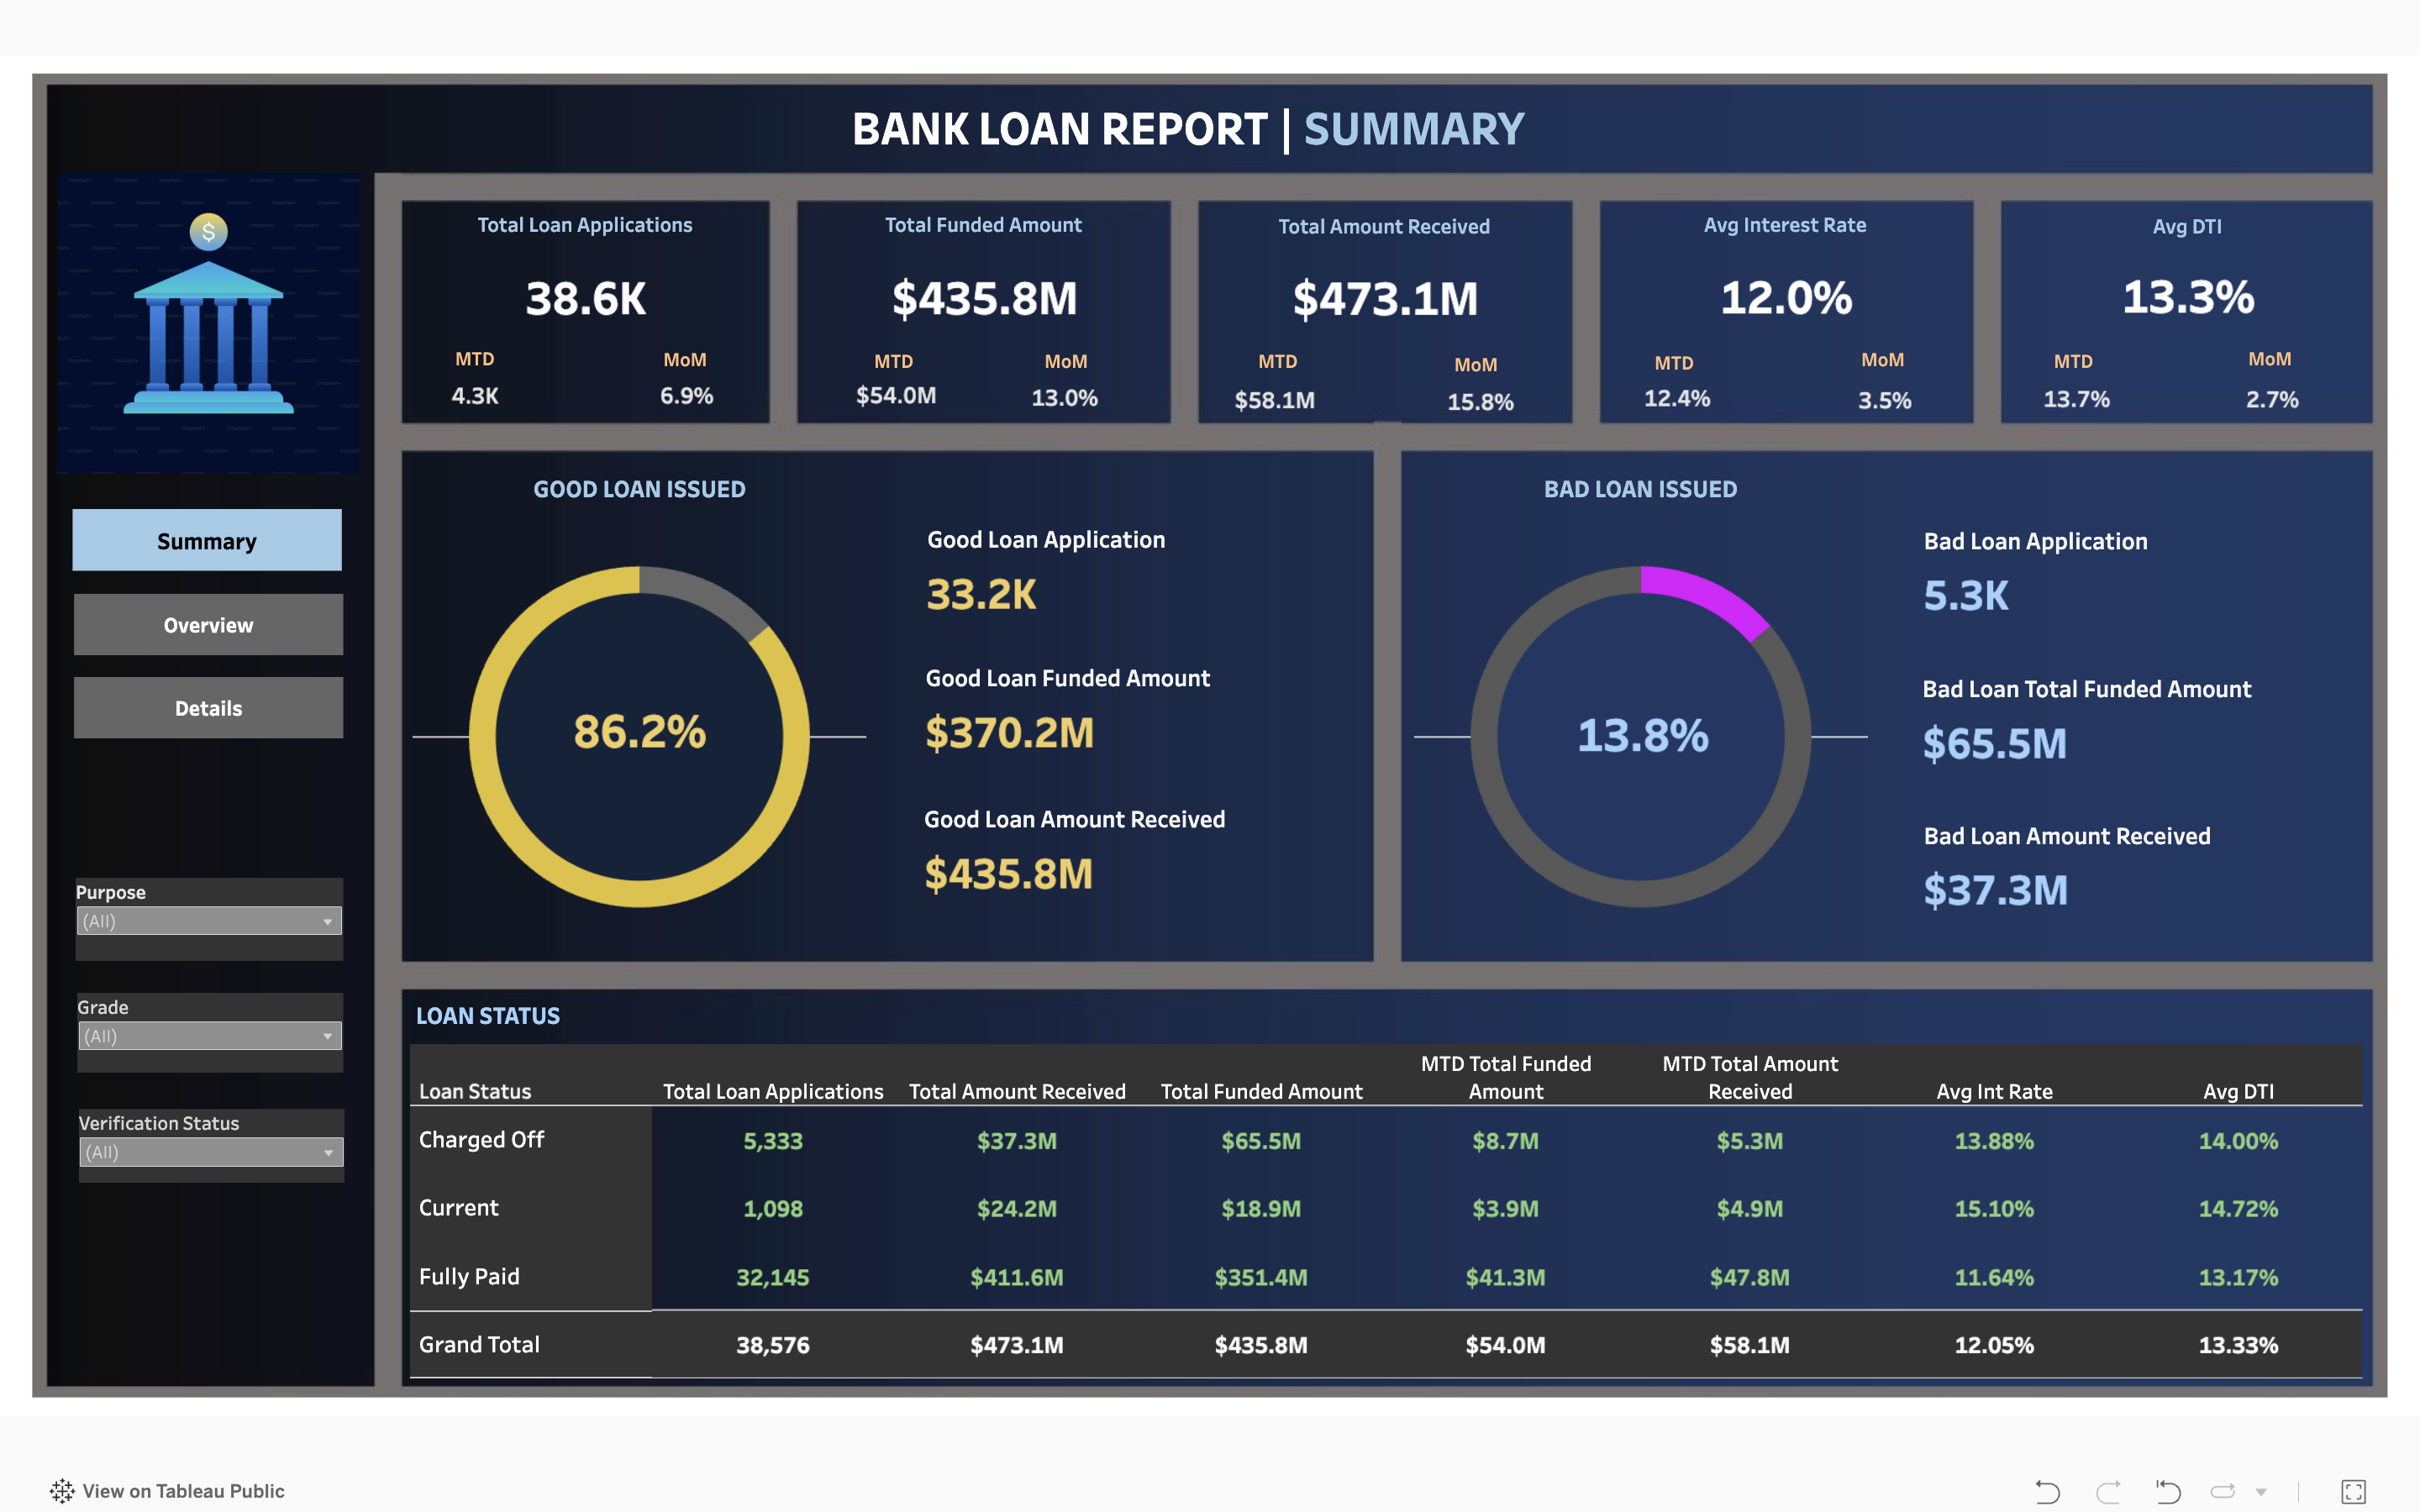

Layout of this report page (visuals, bound fields, positions):
{"tool":"tableau","page":{"name":"SUMMARY","canvas":[1600,900],"ordinal":2},"visuals":[{"type":"image","param":"Image/Tableau Background 1.jpg","box":[8,8,1584,884]},{"type":"text","box":[563,22,455,51]},{"type":"image","param":"Image/premium_vector-1717511155261-8af531b8270c.jpeg","box":[28,78,220,199]},{"type":"worksheet","title":"Total Loan Applications","mark":"Automatic","box":[266,96,242,92]},{"type":"worksheet","title":"Total Funded Amount","mark":"Automatic","box":[527,96,247,92]},{"type":"worksheet","title":"Avg Interest Rate","mark":"Automatic","box":[1057,96,247,91]},{"type":"worksheet","title":"Total Amount Received","mark":"Automatic","box":[792,97,247,91]},{"type":"worksheet","title":"Avg DTI","mark":"Automatic","box":[1323,97,247,89]},{"type":"text","box":[272,180,84,40]},{"type":"text","box":[1459,180,84,40]},{"type":"text","box":[411,181,84,40]},{"type":"text","box":[1203,181,84,40]},{"type":"text","box":[549,182,84,40]},{"type":"text","box":[663,182,84,40]},{"type":"text","box":[803,182,84,40]},{"type":"text","box":[1329,182,84,40]},{"type":"text","box":[1065,183,84,40]},{"type":"text","box":[934,184,84,40]},{"type":"worksheet","title":"MTD Total Loan Applications","mark":"Automatic","box":[260,199,110,49]},{"type":"worksheet","title":"MTD Total Funded Amount","mark":"Automatic","box":[558,204,71,39]},{"type":"worksheet","title":"MoM Avg Int Rate","mark":"Automatic","box":[1213,204,68,45]},{"type":"worksheet","title":"MTD Avg DTI","mark":"Automatic","box":[1341,204,65,44]},{"type":"worksheet","title":"MoM Total Funded Amount","mark":"Automatic","box":[665,205,79,40]},{"type":"worksheet","title":"MTD Total Amount Received","mark":"Automatic","box":[810,207,67,40]},{"type":"worksheet","title":"MoM Avg DTI","mark":"Automatic","box":[1472,207,62,39]},{"type":"worksheet","title":"MTD Avg Int Rate","mark":"Automatic","box":[1076,208,67,35]},{"type":"worksheet","title":"MoM Loan Applications","mark":"Automatic","box":[424,209,61,30]},{"type":"worksheet","title":"MoM Total Amount Received","mark":"Automatic","box":[940,212,79,32]},{"type":"worksheet","title":"Good Loan Issued","mark":"Pie","rows":["Calculation_0920692553846806","Calculation_0920692553846806"],"box":[273,270,300,325]},{"type":"worksheet","title":"Bad Loan Issued","mark":"Pie","rows":["Calculation_0920692553846806","Calculation_0920692553846806"],"box":[935,270,300,325]},{"type":"worksheet","title":"Good Loan Application","mark":"Automatic","box":[605,299,300,75]},{"type":"dashboard-object","box":[48,300,178,41]},{"type":"worksheet","title":"Bad Loan Application","mark":"Automatic","box":[1264,300,300,75]},{"type":"dashboard-object","box":[49,356,178,41]},{"type":"worksheet","title":"Good Loan Funded Amount","mark":"Automatic","box":[604,391,300,75]},{"type":"worksheet","title":"Bad Loan Total Funded Amount","mark":"Automatic","box":[1263,398,300,75]},{"type":"dashboard-object","box":[49,411,178,41]},{"type":"worksheet","title":"Bad Loan %","mark":"Automatic","box":[1034,413,104,70]},{"type":"worksheet","title":"Good Loan Application %","mark":"Automatic","box":[375,420,95,51]},{"type":"worksheet","title":"Good Loan Amount Received","mark":"Automatic","box":[603,484,300,75]},{"type":"worksheet","title":"Bad Loan Amount Received","mark":"Automatic","box":[1264,495,300,75]},{"type":"filter","title":"Good Loan Issued","param":"[federated.071fudh0e96j4d1cuqdf618amsxq].[none:purpose:nk]","box":[50,544,177,55]},{"type":"worksheet","title":"LOAN STATUS","mark":"Automatic","rows":["loan_status"],"box":[271,618,1291,258]},{"type":"filter","title":"Good Loan Issued","param":"[federated.071fudh0e96j4d1cuqdf618amsxq].[none:grade:nk]","box":[51,620,176,53]},{"type":"filter","title":"Good Loan Issued","param":"[federated.071fudh0e96j4d1cuqdf618amsxq].[none:verification_status:nk]","box":[52,697,176,49]}]}

Visuals, with their boxes on the page's 1600x900 design canvas (x1, y1, x2, y2). These are canvas units, not pixel positions in the 2420x1512 screenshot, which may show the page scaled, cropped or inside an application window:
image: {"left": 8, "top": 8, "right": 1592, "bottom": 892}
text: {"left": 563, "top": 22, "right": 1018, "bottom": 73}
image: {"left": 28, "top": 78, "right": 248, "bottom": 277}
"Total Loan Applications" worksheet: {"left": 266, "top": 96, "right": 508, "bottom": 188}
"Total Funded Amount" worksheet: {"left": 527, "top": 96, "right": 774, "bottom": 188}
"Avg Interest Rate" worksheet: {"left": 1057, "top": 96, "right": 1304, "bottom": 187}
"Total Amount Received" worksheet: {"left": 792, "top": 97, "right": 1039, "bottom": 188}
"Avg DTI" worksheet: {"left": 1323, "top": 97, "right": 1570, "bottom": 186}
text: {"left": 272, "top": 180, "right": 356, "bottom": 220}
text: {"left": 1459, "top": 180, "right": 1543, "bottom": 220}
text: {"left": 411, "top": 181, "right": 495, "bottom": 221}
text: {"left": 1203, "top": 181, "right": 1287, "bottom": 221}
text: {"left": 549, "top": 182, "right": 633, "bottom": 222}
text: {"left": 663, "top": 182, "right": 747, "bottom": 222}
text: {"left": 803, "top": 182, "right": 887, "bottom": 222}
text: {"left": 1329, "top": 182, "right": 1413, "bottom": 222}
text: {"left": 1065, "top": 183, "right": 1149, "bottom": 223}
text: {"left": 934, "top": 184, "right": 1018, "bottom": 224}
"MTD Total Loan Applications" worksheet: {"left": 260, "top": 199, "right": 370, "bottom": 248}
"MTD Total Funded Amount" worksheet: {"left": 558, "top": 204, "right": 629, "bottom": 243}
"MoM Avg Int Rate" worksheet: {"left": 1213, "top": 204, "right": 1281, "bottom": 249}
"MTD Avg DTI" worksheet: {"left": 1341, "top": 204, "right": 1406, "bottom": 248}
"MoM Total Funded Amount" worksheet: {"left": 665, "top": 205, "right": 744, "bottom": 245}
"MTD Total Amount Received" worksheet: {"left": 810, "top": 207, "right": 877, "bottom": 247}
"MoM Avg DTI" worksheet: {"left": 1472, "top": 207, "right": 1534, "bottom": 246}
"MTD Avg Int Rate" worksheet: {"left": 1076, "top": 208, "right": 1143, "bottom": 243}
"MoM Loan Applications" worksheet: {"left": 424, "top": 209, "right": 485, "bottom": 239}
"MoM Total Amount Received" worksheet: {"left": 940, "top": 212, "right": 1019, "bottom": 244}
"Good Loan Issued" worksheet (Pie marks): {"left": 273, "top": 270, "right": 573, "bottom": 595}
"Bad Loan Issued" worksheet (Pie marks): {"left": 935, "top": 270, "right": 1235, "bottom": 595}
"Good Loan Application" worksheet: {"left": 605, "top": 299, "right": 905, "bottom": 374}
dashboard-object: {"left": 48, "top": 300, "right": 226, "bottom": 341}
"Bad Loan Application" worksheet: {"left": 1264, "top": 300, "right": 1564, "bottom": 375}
dashboard-object: {"left": 49, "top": 356, "right": 227, "bottom": 397}
"Good Loan Funded Amount" worksheet: {"left": 604, "top": 391, "right": 904, "bottom": 466}
"Bad Loan Total Funded Amount" worksheet: {"left": 1263, "top": 398, "right": 1563, "bottom": 473}
dashboard-object: {"left": 49, "top": 411, "right": 227, "bottom": 452}
"Bad Loan %" worksheet: {"left": 1034, "top": 413, "right": 1138, "bottom": 483}
"Good Loan Application %" worksheet: {"left": 375, "top": 420, "right": 470, "bottom": 471}
"Good Loan Amount Received" worksheet: {"left": 603, "top": 484, "right": 903, "bottom": 559}
"Bad Loan Amount Received" worksheet: {"left": 1264, "top": 495, "right": 1564, "bottom": 570}
"Good Loan Issued" filter: {"left": 50, "top": 544, "right": 227, "bottom": 599}
"LOAN STATUS" worksheet: {"left": 271, "top": 618, "right": 1562, "bottom": 876}
"Good Loan Issued" filter: {"left": 51, "top": 620, "right": 227, "bottom": 673}
"Good Loan Issued" filter: {"left": 52, "top": 697, "right": 228, "bottom": 746}
